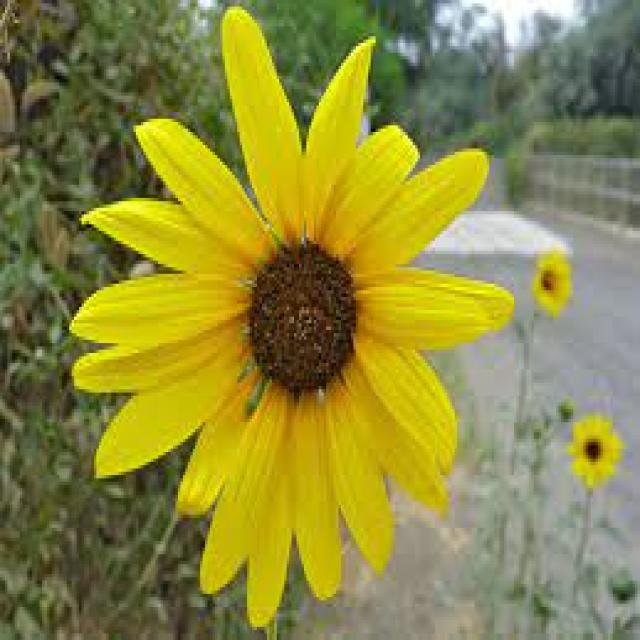sunflower: (61, 0, 524, 638), (531, 242, 579, 328), (568, 410, 620, 487)
